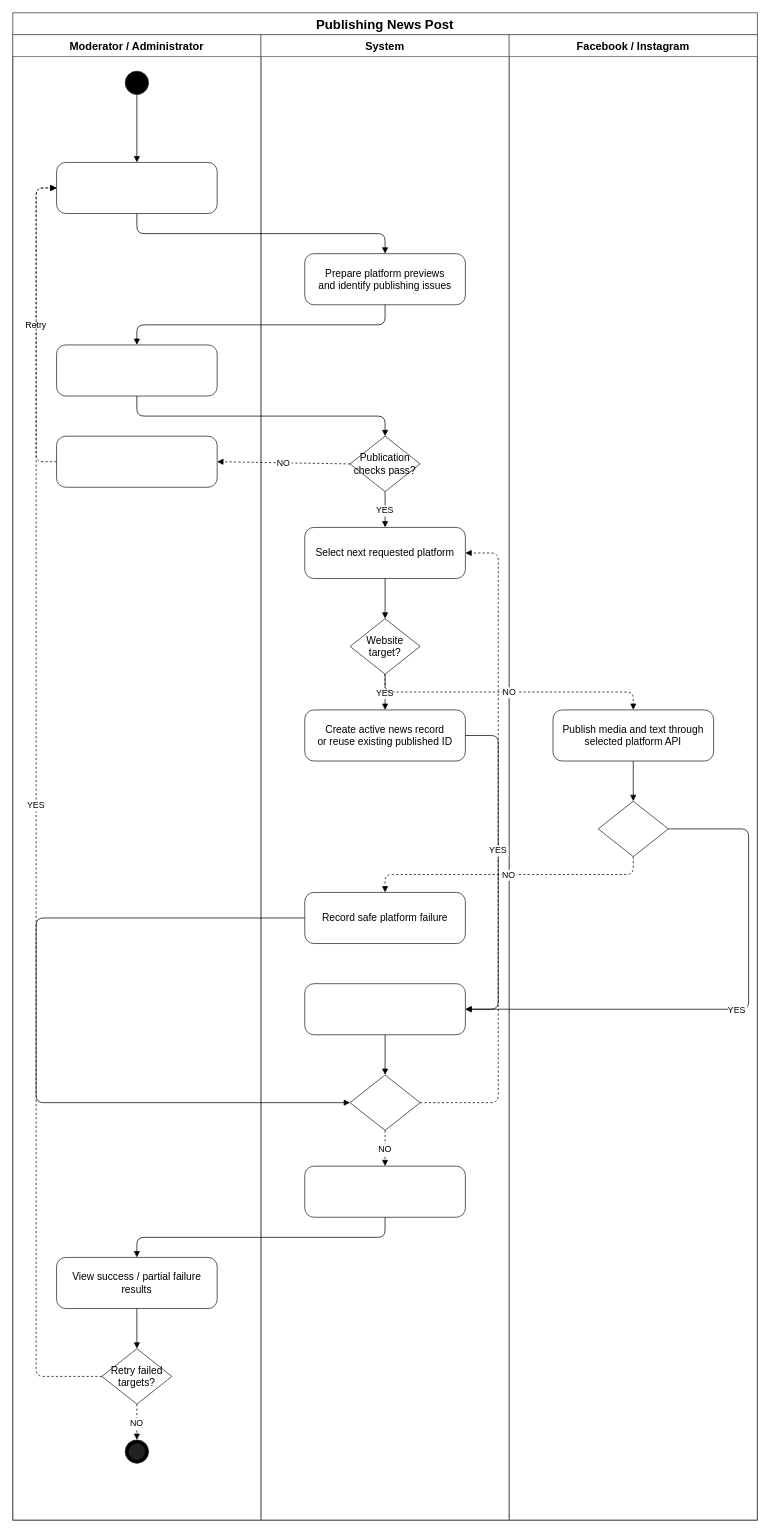
Some shapes in this 770 by 1533 pixel diagram are drawn without their labels. The shapes that lost their labels are listed below. From the top down, each one's centre as x and y in pixels, then its label:
At point 136,188: "Open reviewed draft; select website and/or social platforms".
At point 136,370: "Check previews and confirm publishing".
At point 136,461: "Correct draft / review / connection issues; reopen preview".
At point 633,828: "Provider successful?".
At point 384,1009: "Record success and published ID when available".
At point 384,1102: "More platforms?".
At point 384,1191: "Merge per-platform publication results".
